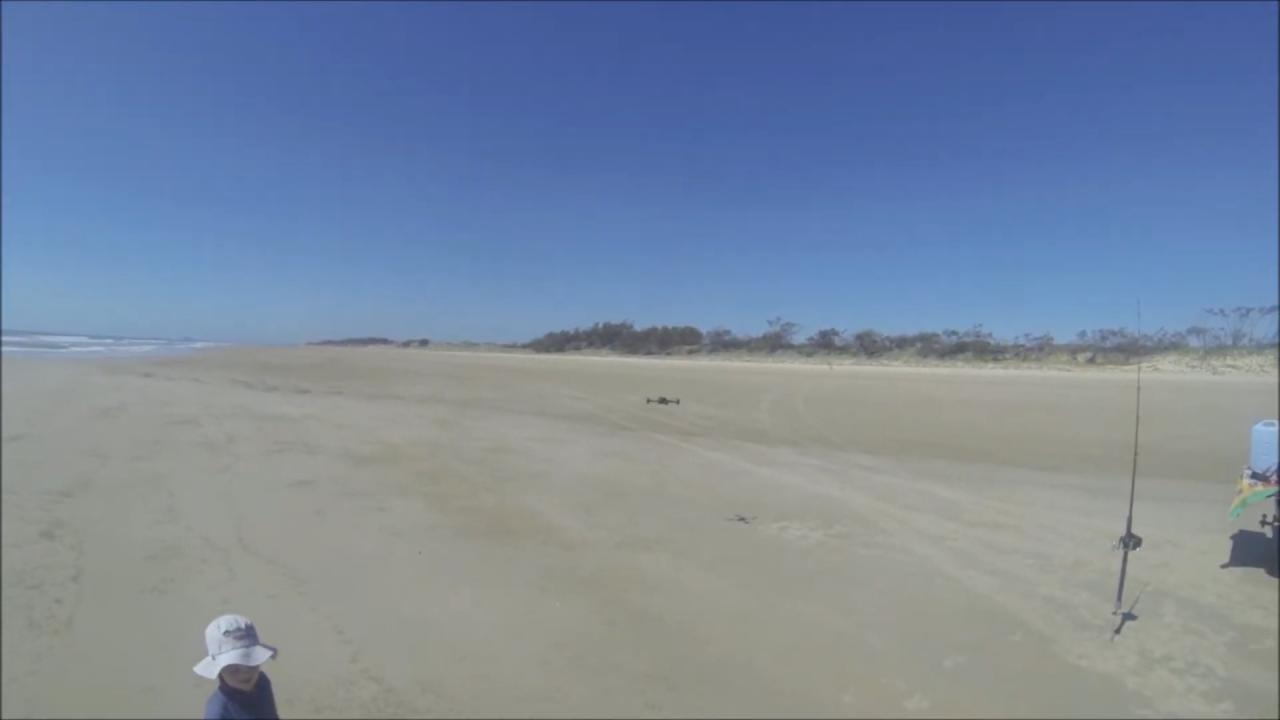Drone: (637, 388, 687, 411)
